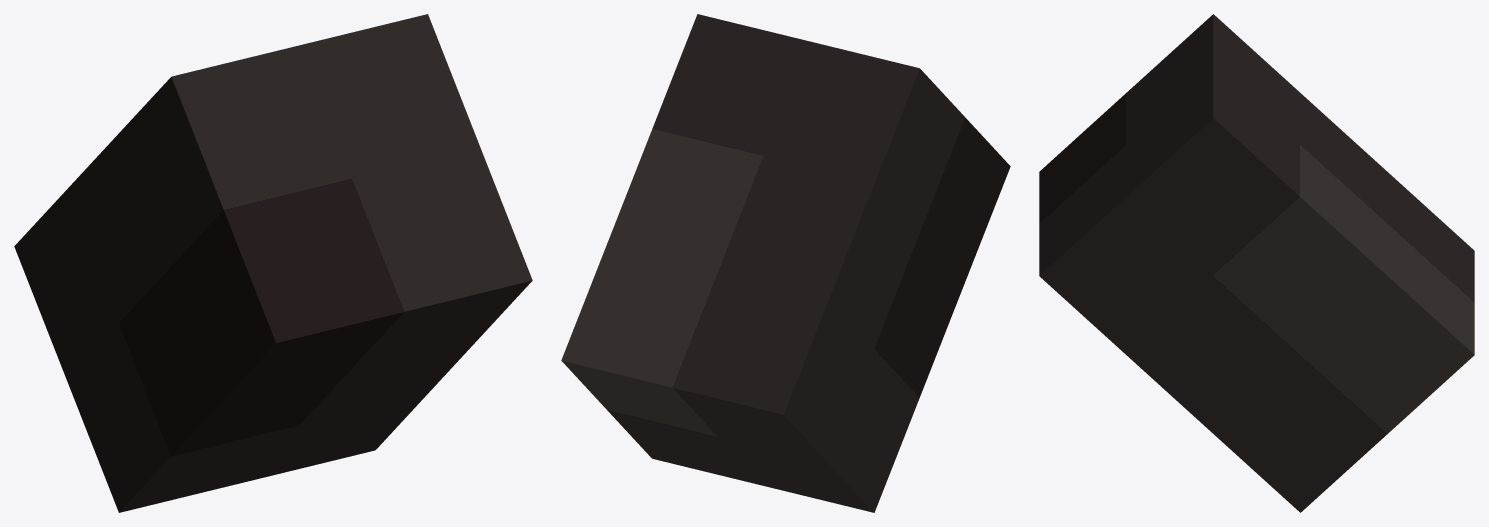
Rendered from sunflower-seeds.gltf.
The picture shows the model from 3 angles, left to right: view 1: azimuth 30°, elevation 25°; view 2: azimuth 150°, elevation 25°; view 3: azimuth 270°, elevation 25°; orthographic projection. The views are drawn at different scales.
Visible parts, largest first — view 1: cube; view 2: cube; view 3: cube.
Part boxes in pixels (x1,y1,x2,y2): cube: (14,14,532,512); cube: (561,14,1010,512); cube: (1039,14,1474,512).
Bounding box in the file's own units: 0.125 × 0.221 × 0.221.
Materials: 1 (1 with a texture image).
